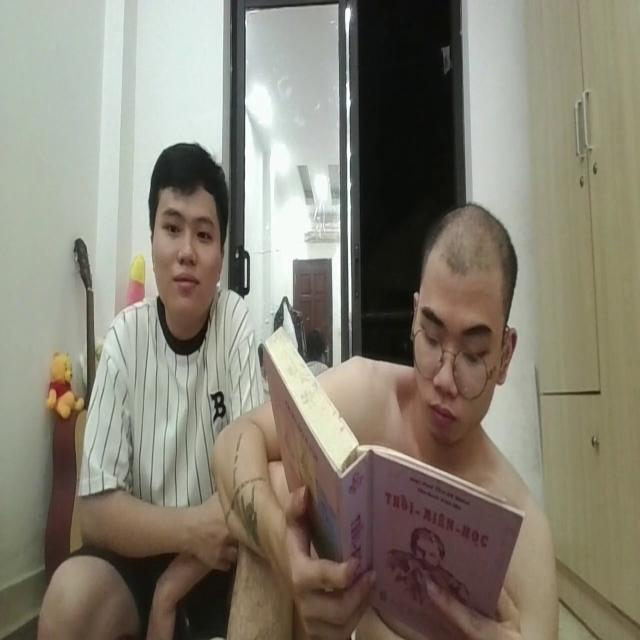book: (256, 317, 520, 628)
extra_person: (56, 114, 258, 640)
student: (236, 202, 554, 640)
